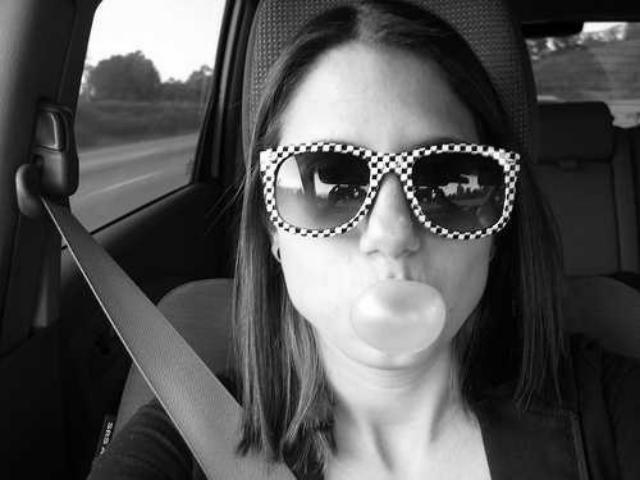Seatbelt: (18, 102, 304, 480)
